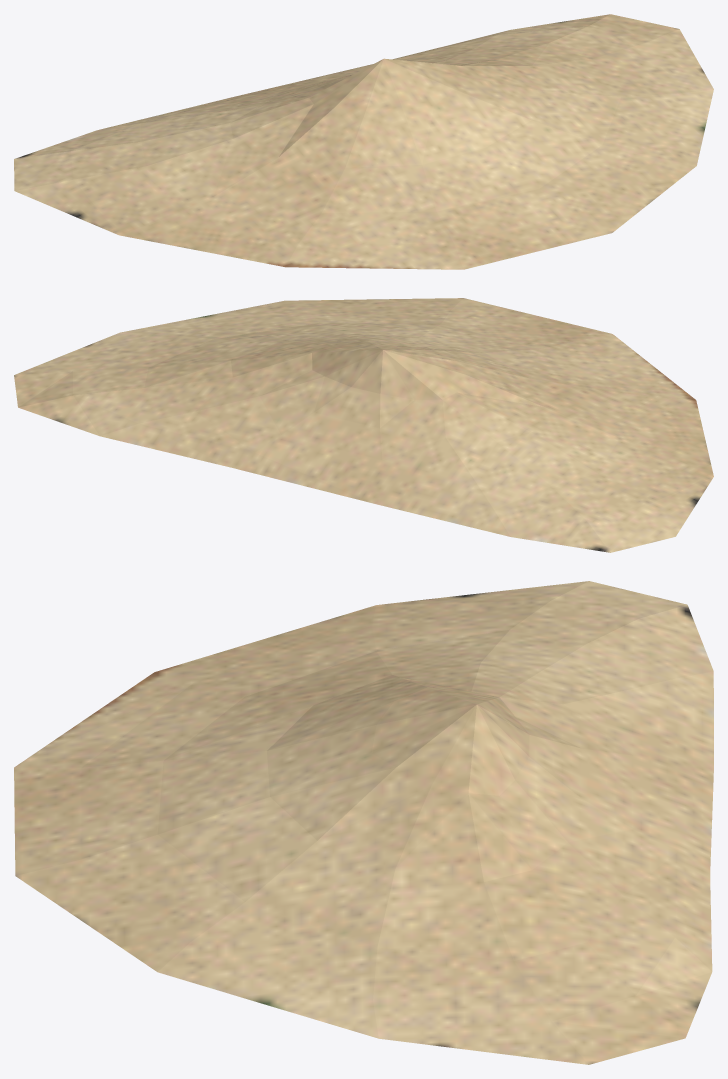
Rendered from SM_Dune_C.fbx.
3 renders of one model, top to bottom at view 1: azimuth 30°, elevation 25°; view 2: azimuth 150°, elevation 25°; view 3: azimuth 270°, elevation 25°, orthographic. The views are drawn at different scales.
Parts seen in each view (by area): view 1: SM_Dune_C; view 2: SM_Dune_C; view 3: SM_Dune_C.
Boxes of the visible parts, left/top/right/bottom form: SM_Dune_C: left=14, top=14, right=713, bottom=269; SM_Dune_C: left=14, top=298, right=713, bottom=552; SM_Dune_C: left=14, top=581, right=713, bottom=1064.
Size of the model in its own units: 7011 by 797 by 4286.
Materials: 1 (1 with a texture image).
